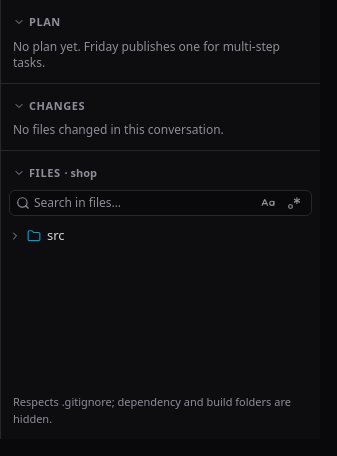
Test: project search › shows an invalid or runaway regex, and Esc brings the tree back
This screenshot has width=337, height=456.
Click the button named "Use regular expression" at (294, 202), box top-left (283, 192), bottom-right (305, 214)
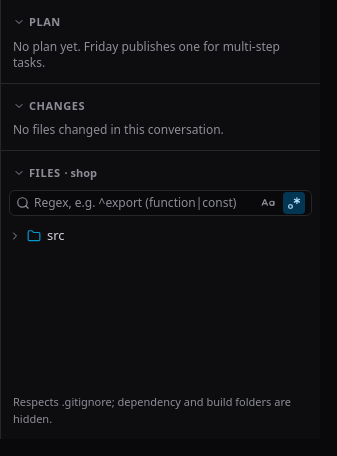
Type "(unclosed" into the search field named "Search in files" at (144, 202), box top-left (34, 190), bottom-right (253, 214)
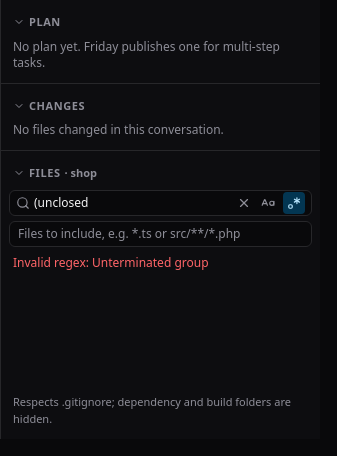
Now the message reads "Invalid regex: Unterminated group", box top-left (13, 254), bottom-right (208, 270)
Press Escape in the search field named "Search in files", box top-left (34, 190), bottom-right (231, 214)
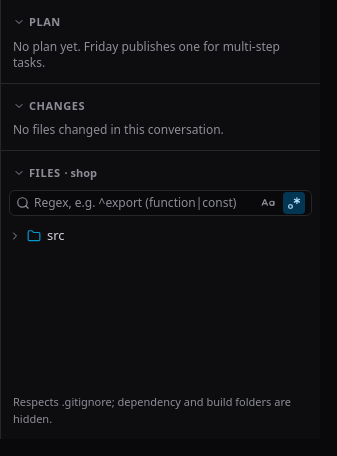
Now the search field named "Search in files" is empty, box top-left (34, 190), bottom-right (253, 214)
Now the button "src" is shown, box top-left (5, 224), bottom-right (316, 248)
